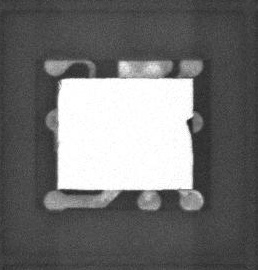DIE_BROKEN: (186, 114, 193, 146), (56, 77, 62, 93)
